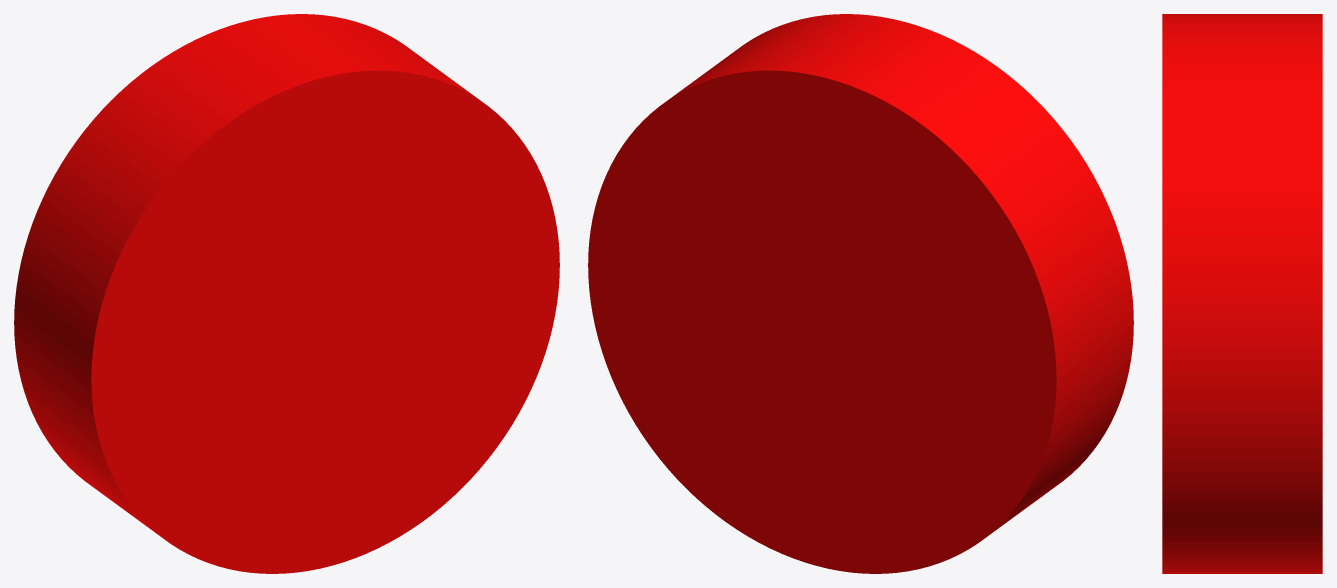
Rendered from roamr_wheel.dae.
3 renders of one model, left to right at view 1: azimuth 30°, elevation 25°; view 2: azimuth 150°, elevation 25°; view 3: azimuth 270°, elevation 25°, orthographic. The views are drawn at different scales.
Parts seen in each view (by area): view 1: node0; view 2: node0; view 3: node0.
Part boxes in pixels (bbox=[...]): node0: bbox=[14, 14, 559, 573]; node0: bbox=[588, 14, 1133, 573]; node0: bbox=[1162, 14, 1322, 573].
Size of the model in its own units: 0.07 by 0.02 by 0.07.
